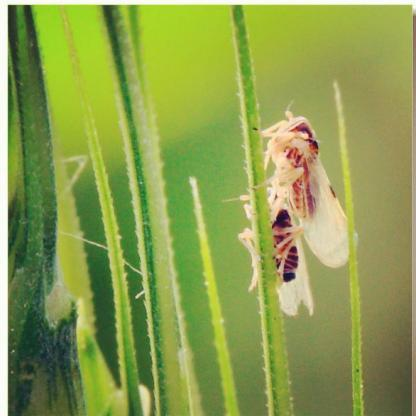brown-planthopper: (262, 112, 348, 264), (237, 181, 314, 318)
